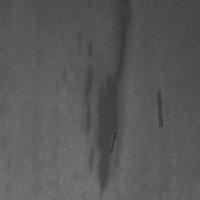inclusion: (77, 16, 129, 199), (156, 89, 162, 128), (108, 130, 117, 154)
